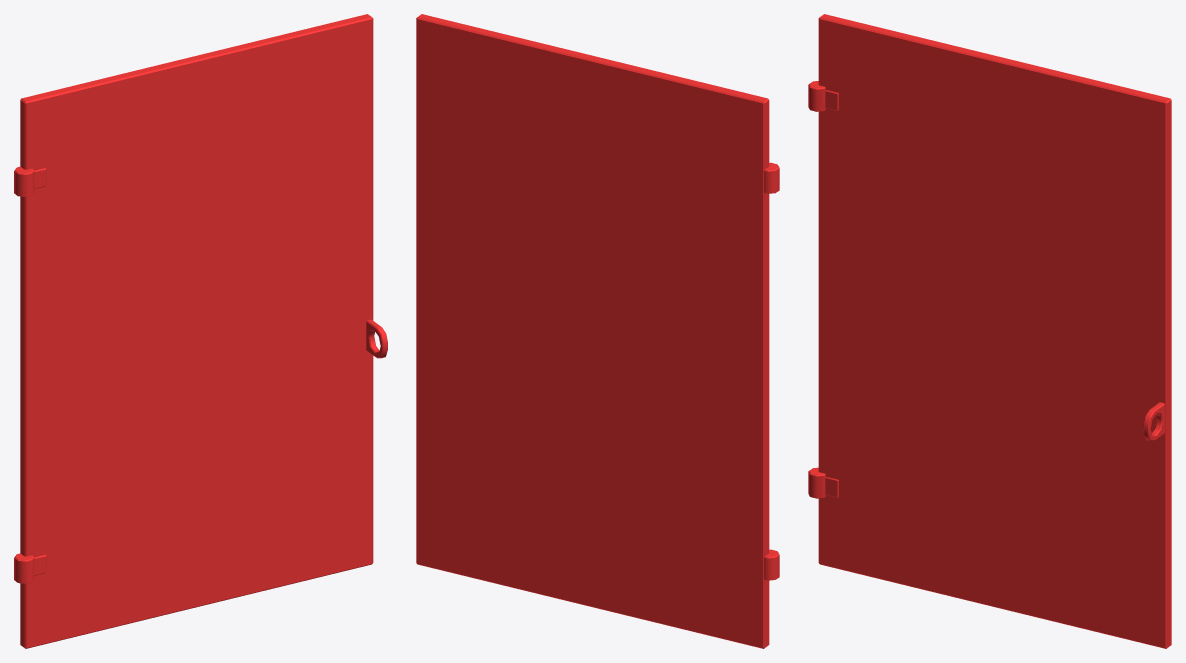
Rendered from Garage_Door_Right_01_001.fbx.
The picture shows the model from 3 angles, left to right: view 1: azimuth 30°, elevation 25°; view 2: azimuth 150°, elevation 25°; view 3: azimuth 330°, elevation 25°; orthographic projection.
Parts seen in each view (by area): view 1: Garage_Door_Left_01_001; view 2: Garage_Door_Left_01_001; view 3: Garage_Door_Left_01_001.
Part boxes in pixels (bbox=[...]): Garage_Door_Left_01_001: bbox=[14, 14, 387, 648]; Garage_Door_Left_01_001: bbox=[416, 14, 779, 648]; Garage_Door_Left_01_001: bbox=[808, 14, 1171, 648].
Size of the model in its own units: 143 by 210 by 15.22.
